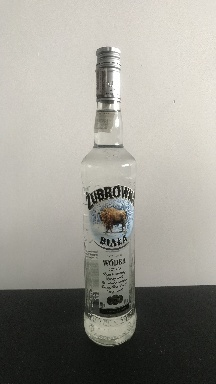butelka: (79, 43, 138, 348)
